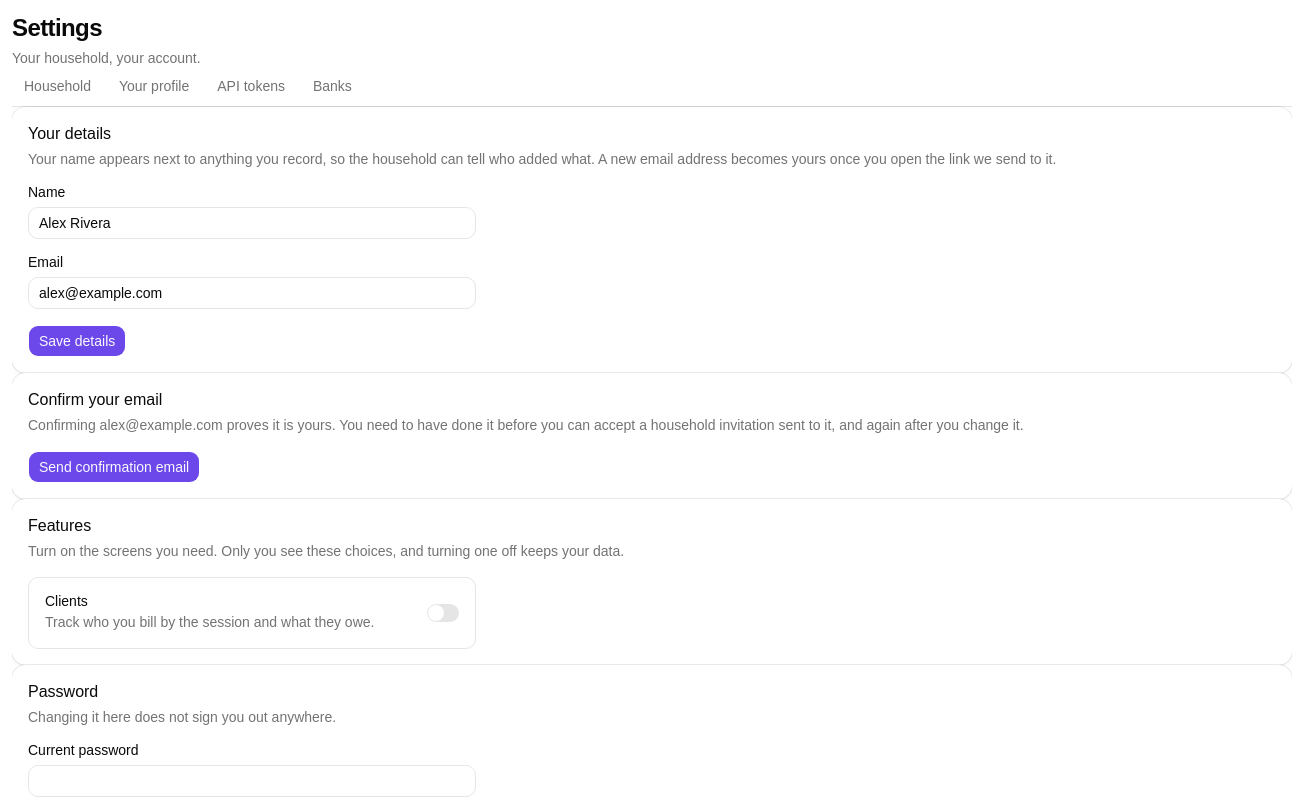
it: profile page › puts the current address back in the form while the new one is pending
Step 1. Replace the text in the field labelled "Email" with "moving-to@example.com" → (252, 293), box [28,277,476,309]
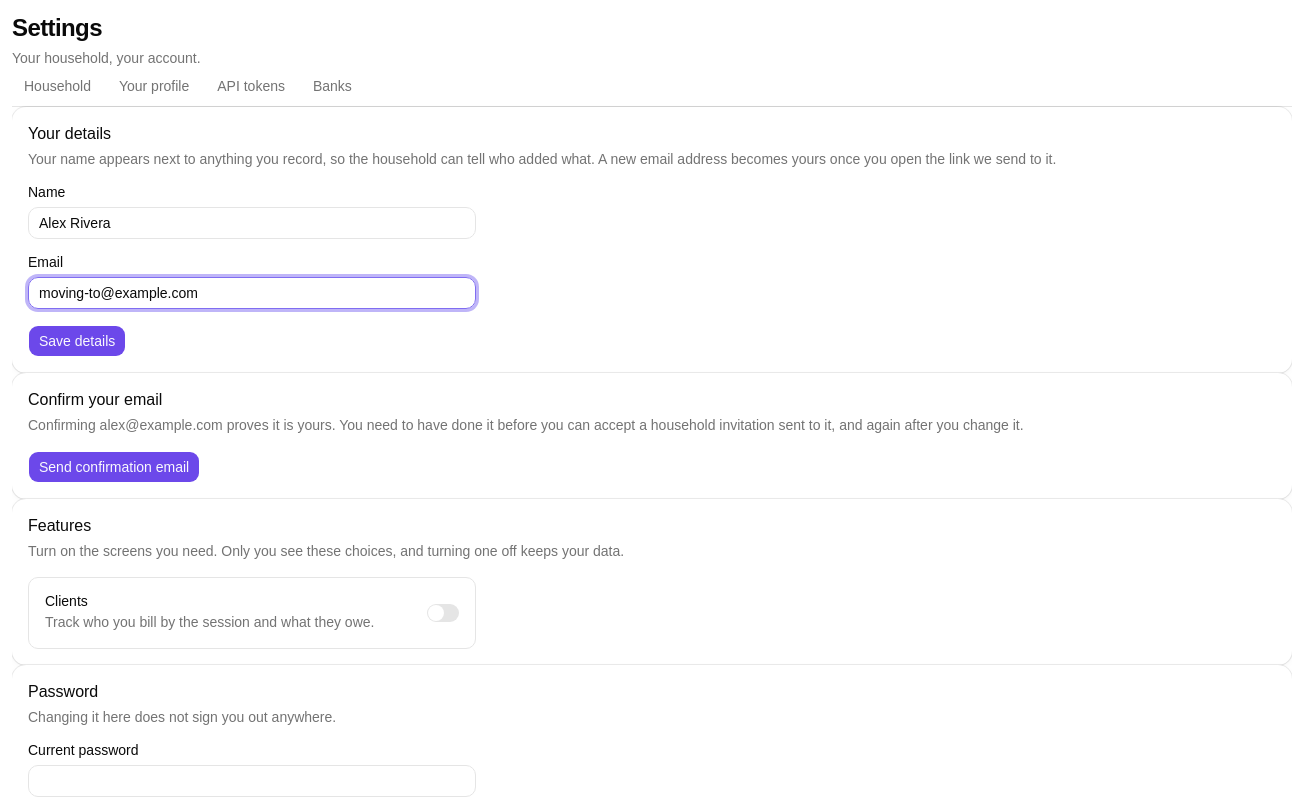
Step 2. Click the button "Save details" → click(77, 341), box [28,325,126,357]
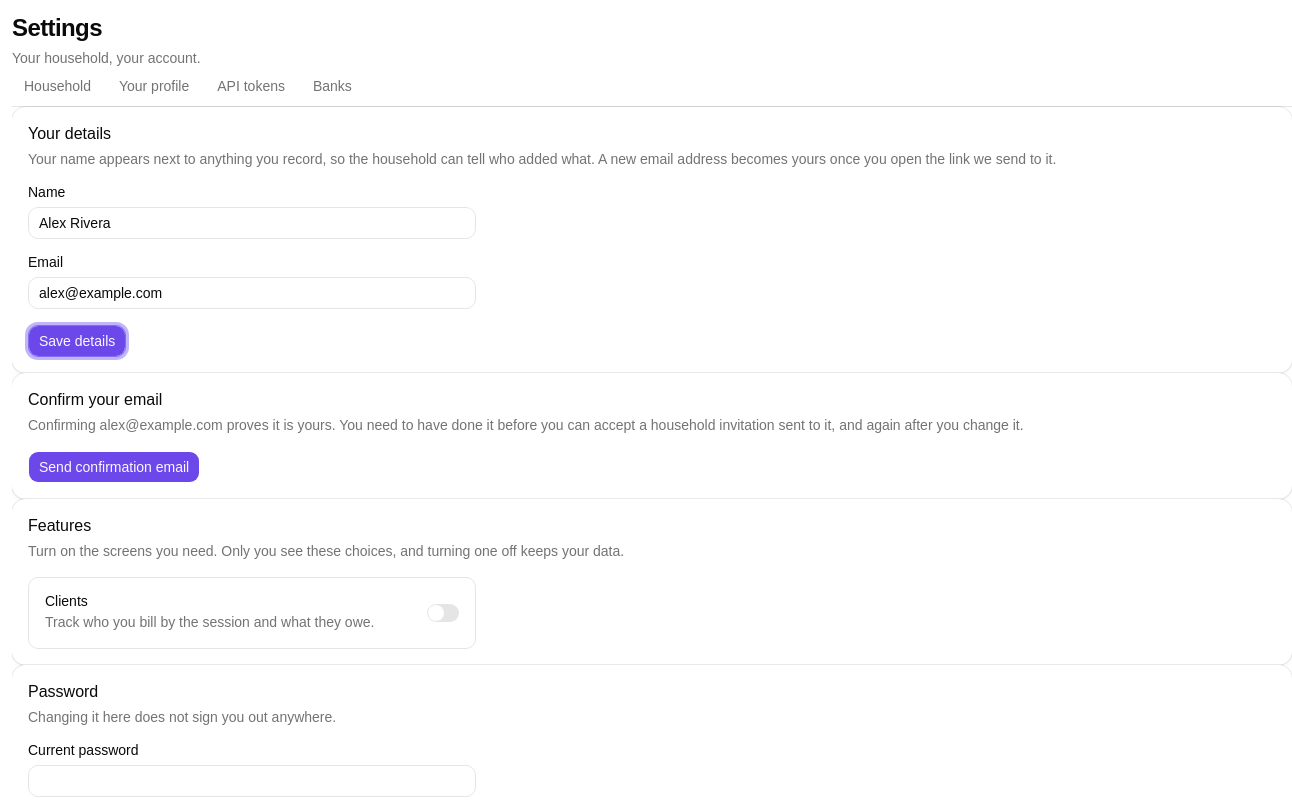
Check: the field labelled "Email" holds "alex@example.com", box [28,277,476,309]
